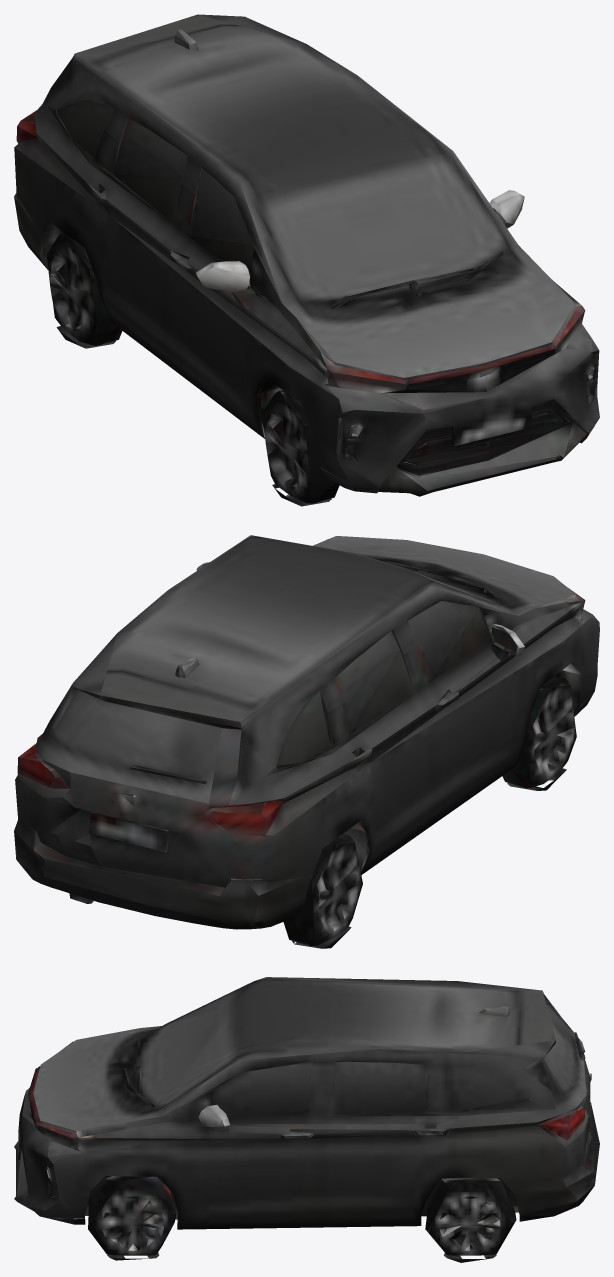
The model's file is xenia_lod2.glb.
3 views of the same model, one above another, from view 1: azimuth 30°, elevation 25°; view 2: azimuth 150°, elevation 25°; view 3: azimuth 270°, elevation 25° (orthographic). The views are drawn at different scales.
Parts seen in each view (by area): view 1: tripo_node_c2b8ce2c; view 2: tripo_node_c2b8ce2c; view 3: tripo_node_c2b8ce2c.
Part boxes in pixels (x1,y1,x2,y2): tripo_node_c2b8ce2c: (14, 14, 599, 506); tripo_node_c2b8ce2c: (14, 535, 599, 948); tripo_node_c2b8ce2c: (14, 977, 599, 1262).
Size of the model in its own units: 47.73 by 36.97 by 94.74.
1 material, 1 textured.
